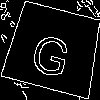G: (28, 24, 75, 80)
